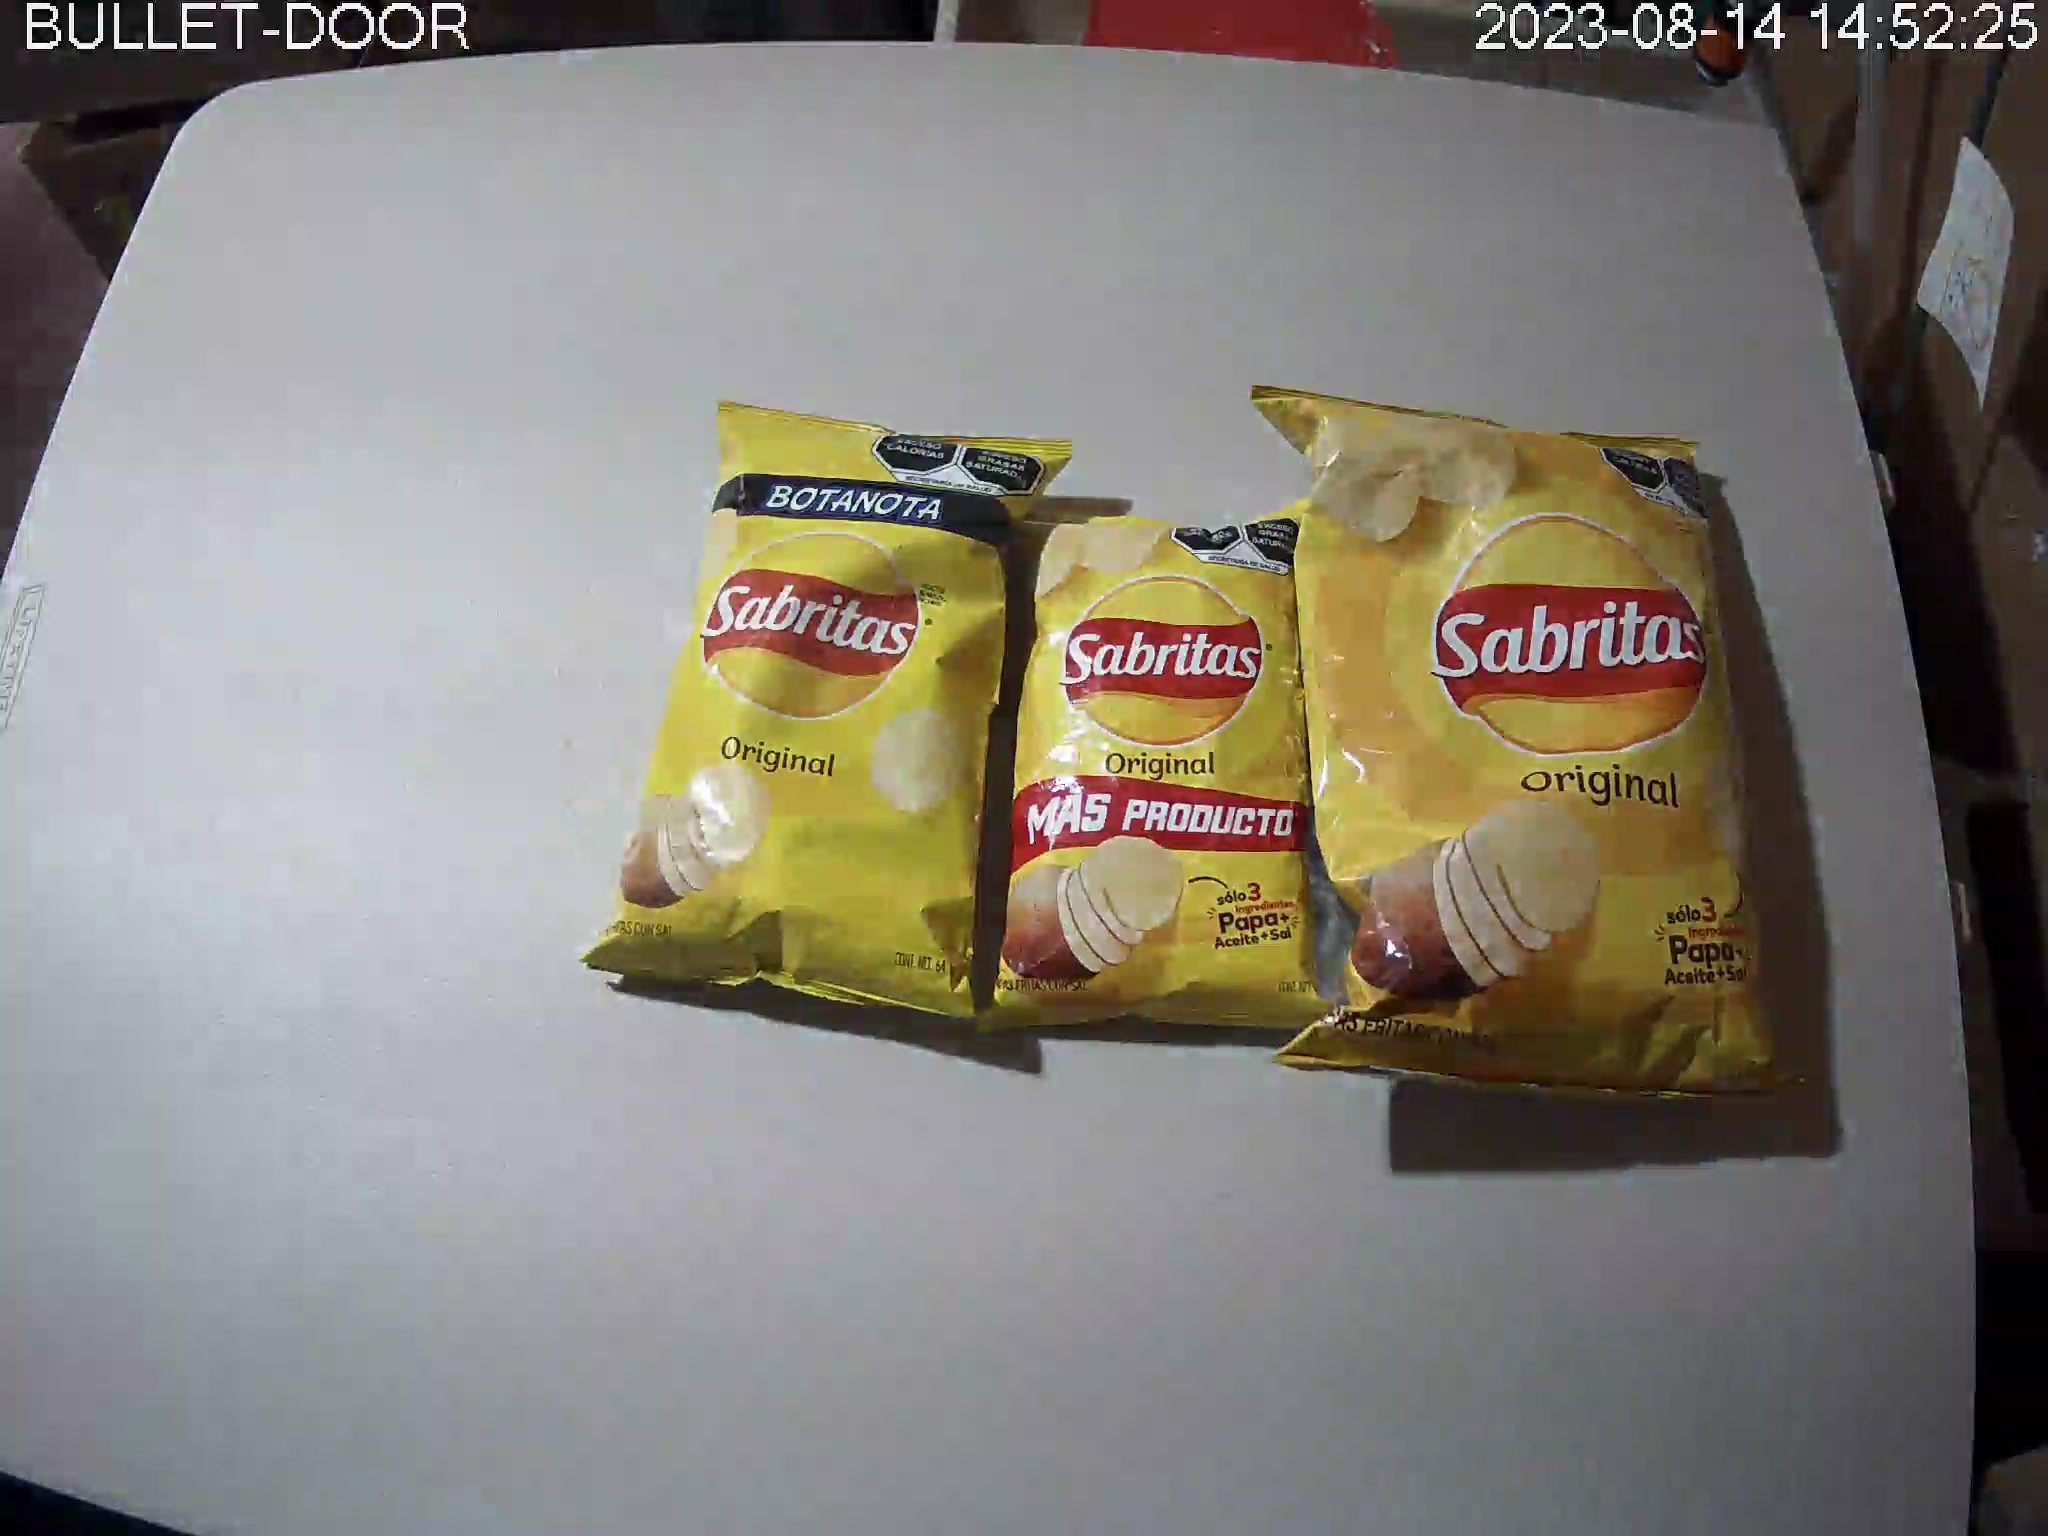Sabritas_160_F: (1250, 381, 1806, 1110)
Sabritas_45_F: (976, 490, 1338, 1034)
Sabritas_64_F: (579, 399, 1077, 1033)
